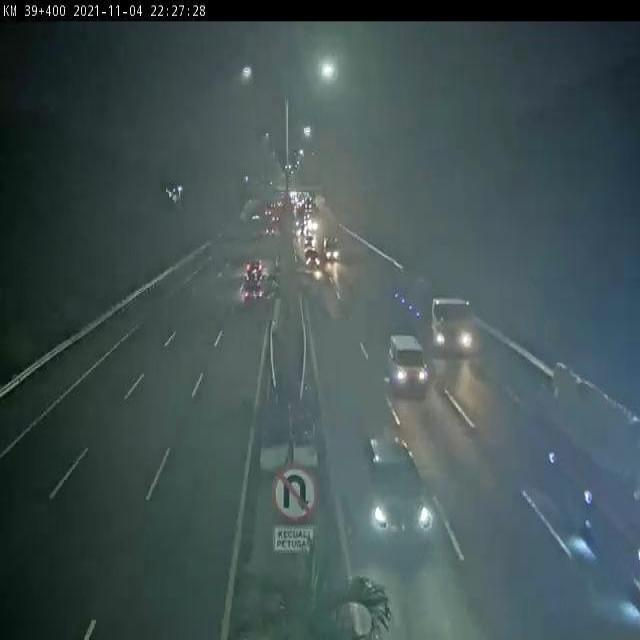ARABA: (360, 436, 435, 540), (387, 333, 430, 391), (244, 279, 264, 304), (246, 255, 264, 281), (304, 249, 321, 268)
KAMYONET: (322, 235, 341, 262)
TIR: (389, 267, 471, 352)
